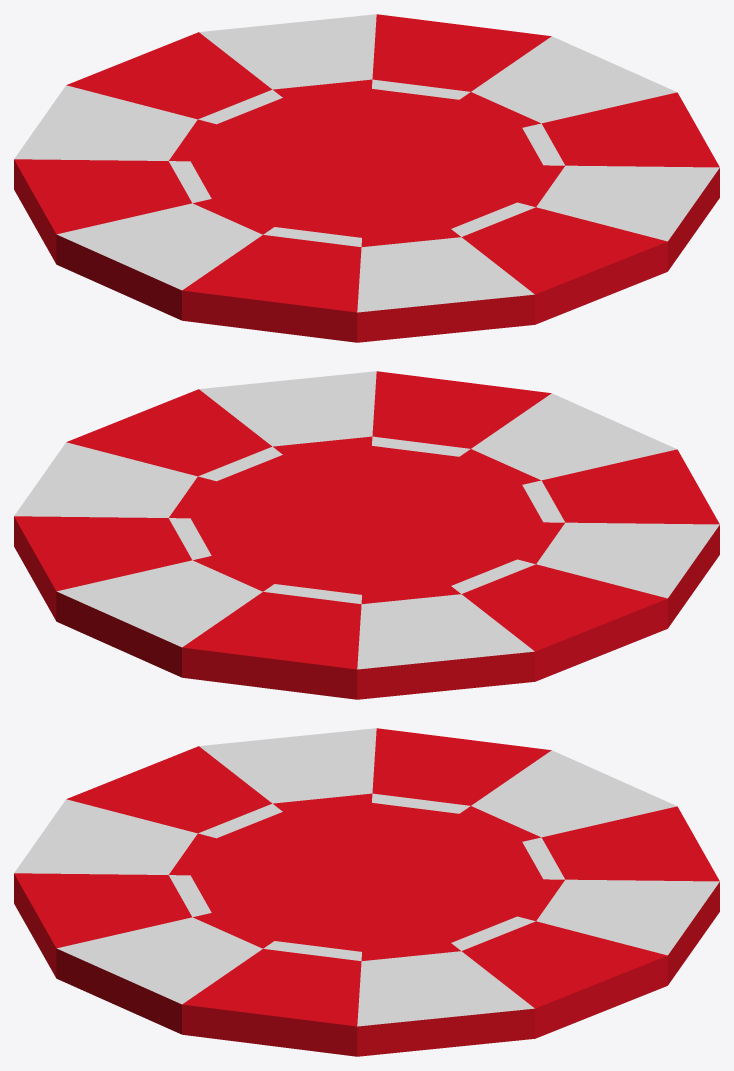
The model's file is Poker Chips - R.glb.
3 views of the same model, one above another, from view 1: azimuth 30°, elevation 25°; view 2: azimuth 150°, elevation 25°; view 3: azimuth 270°, elevation 25° (orthographic).
Visible parts, largest first — view 1: Circle.002; view 2: Circle.002; view 3: Circle.002.
Boxes of the visible parts, x1,y1,x2,y2 form: Circle.002: (14,14,719,342); Circle.002: (14,371,719,699); Circle.002: (14,728,719,1056).
Size of the model in its own units: 0.3149 by 0.0149 by 0.3149.
